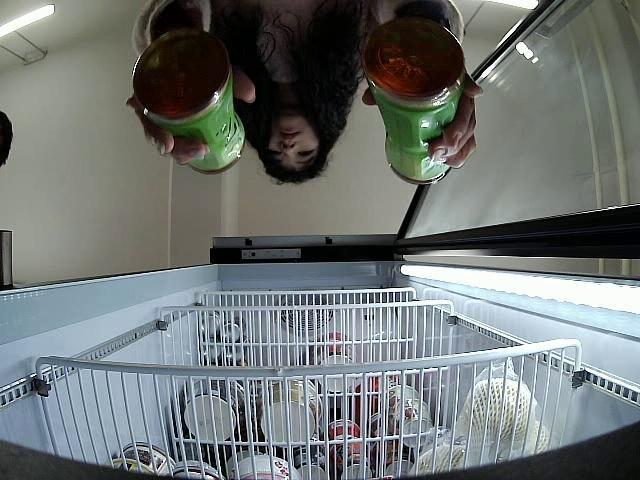19_17cha: (362, 16, 467, 185), (132, 28, 246, 176)
